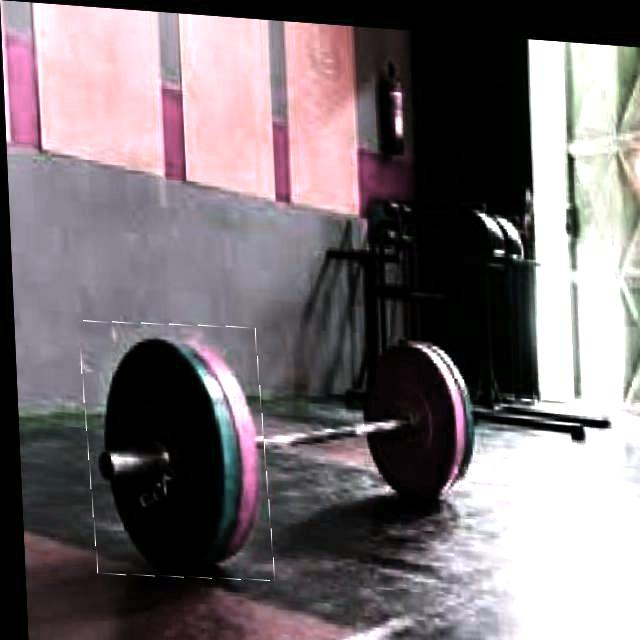barbell: (79, 316, 268, 582)
